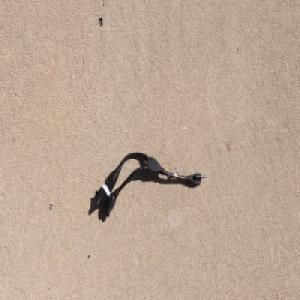Wire: (94, 151, 207, 219)
